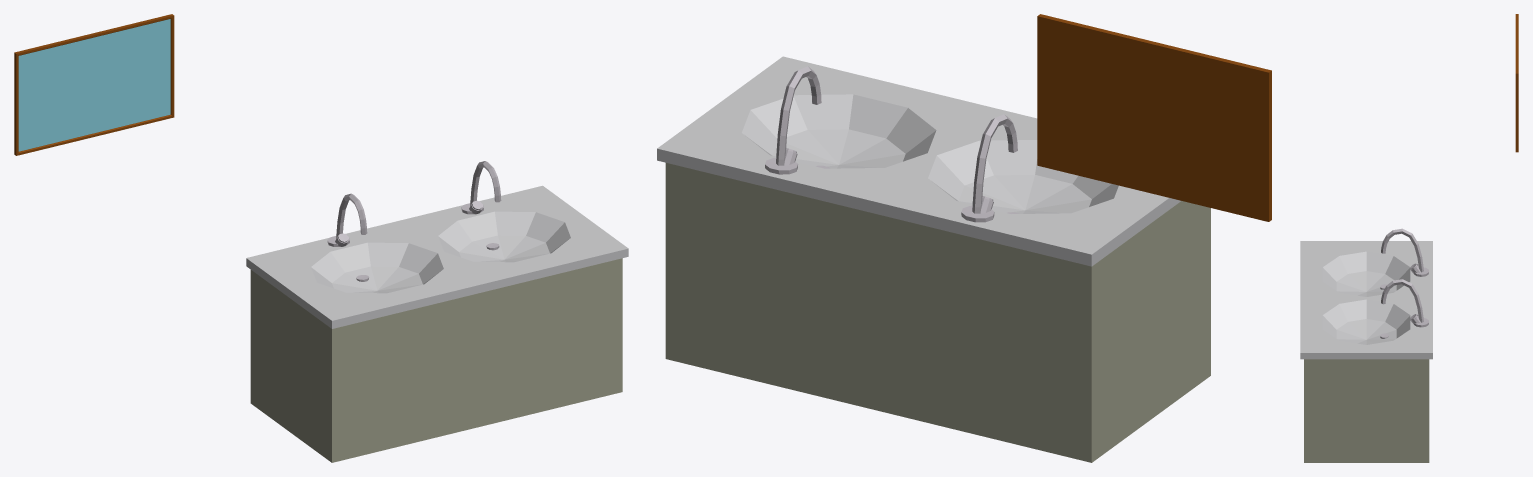
The model's file is SinkMirror.fbx.
3 views of the same model, side by side, from view 1: azimuth 30°, elevation 25°; view 2: azimuth 150°, elevation 25°; view 3: azimuth 270°, elevation 25° (orthographic). The views are drawn at different scales.
Visible parts, largest first — view 1: Sink, Mirror; view 2: Sink, Mirror; view 3: Sink, Mirror.
Boxes of the visible parts, left/top/right/bottom form: Sink: left=246, top=161, right=628, bottom=462; Mirror: left=14, top=14, right=174, bottom=155; Sink: left=657, top=56, right=1210, bottom=462; Mirror: left=1037, top=14, right=1271, bottom=221; Sink: left=1300, top=228, right=1432, bottom=462; Mirror: left=1515, top=14, right=1518, bottom=152.
Bounding box in the file's own units: 345 × 246 × 179.
Materials: 1 (1 with a texture image).
